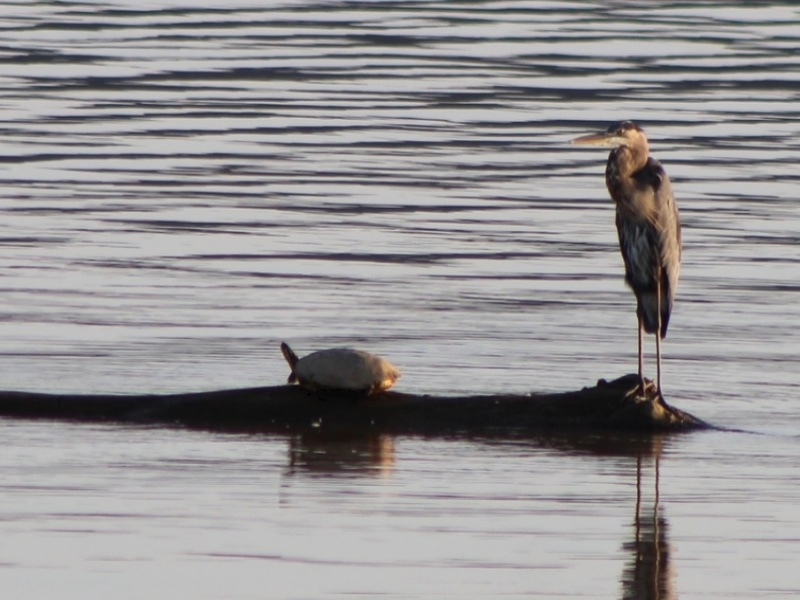heron: (565, 122, 684, 406)
